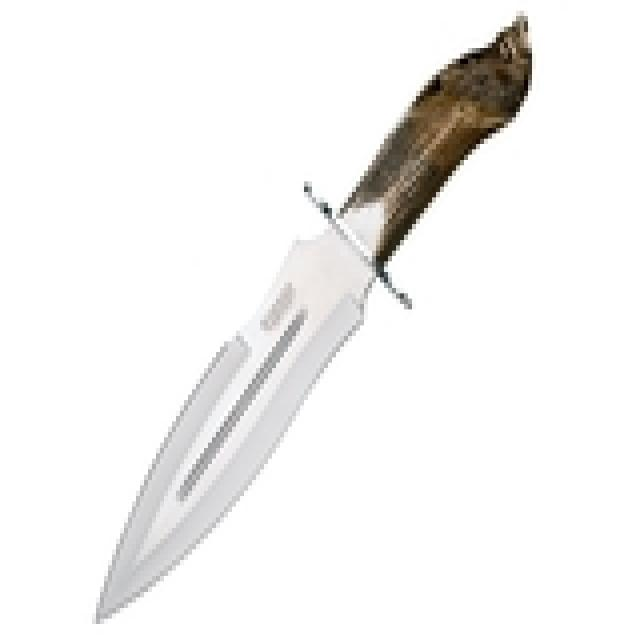Knife: (60, 6, 537, 626)
